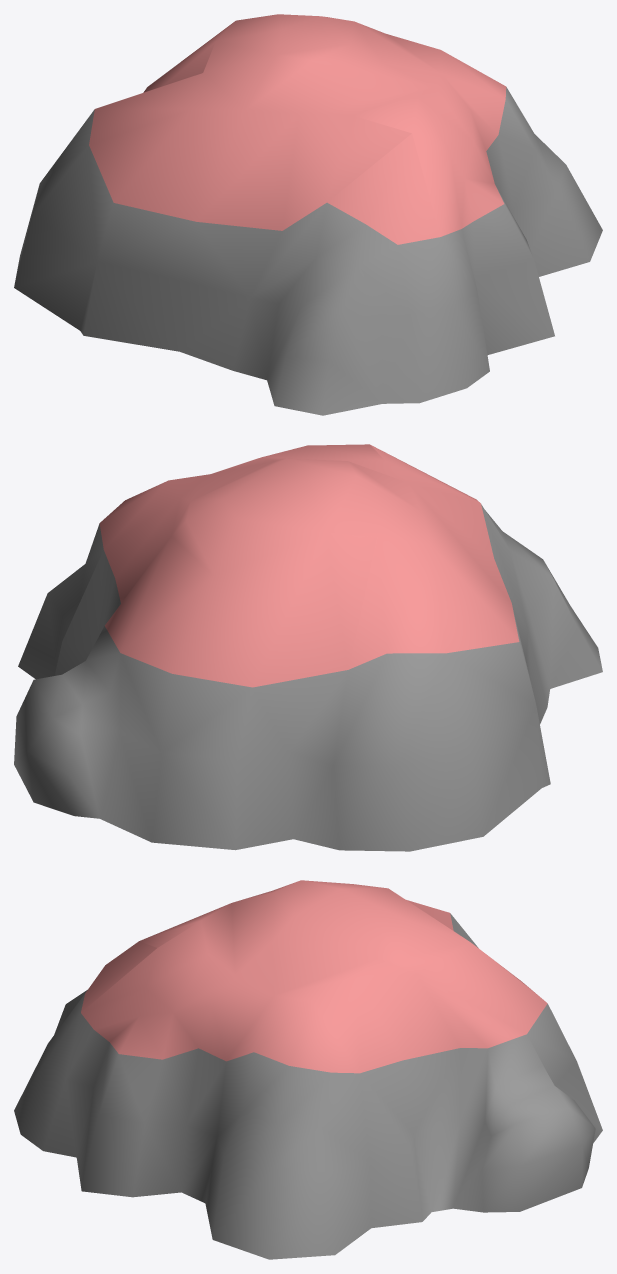
File: sporeseastone01.gltf
3 renders of one model, top to bottom at view 1: azimuth 30°, elevation 25°; view 2: azimuth 150°, elevation 25°; view 3: azimuth 270°, elevation 25°, orthographic. The views are drawn at different scales.
Visible parts, largest first — view 1: sporeseastone01; view 2: sporeseastone01; view 3: sporeseastone01.
Boxes of the visible parts, x1,y1,x2,y2 form: sporeseastone01: [14, 14, 602, 415]; sporeseastone01: [14, 444, 602, 851]; sporeseastone01: [14, 880, 602, 1259].
Size of the model in its own units: 3.54 by 1.64 by 3.71.
